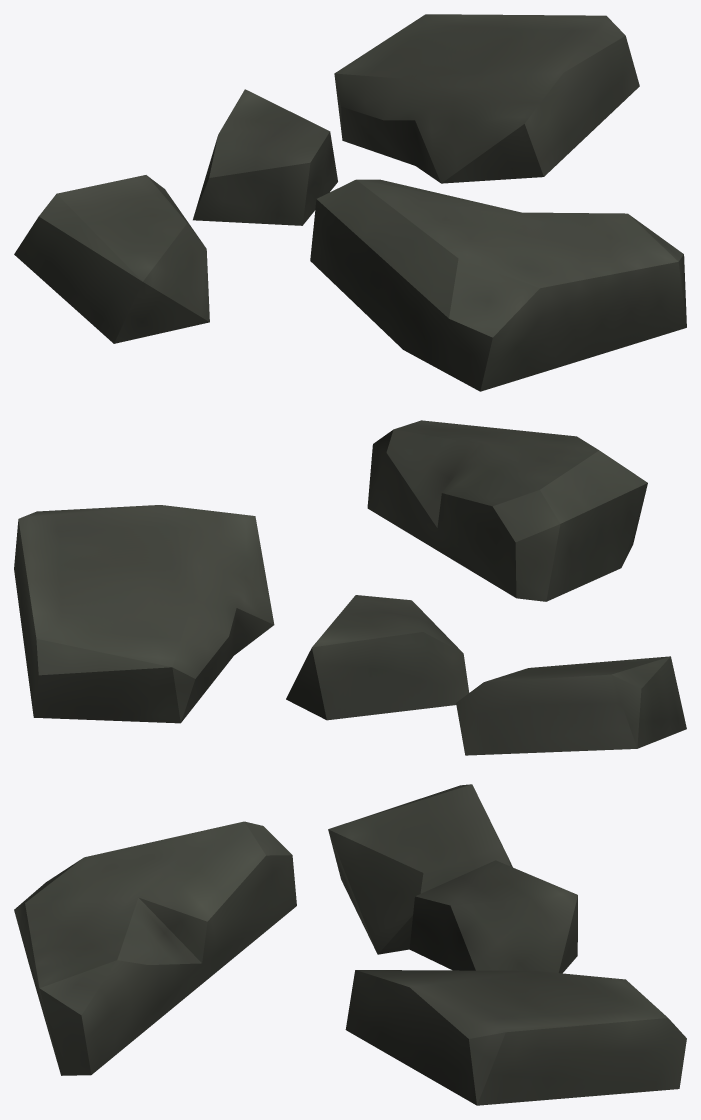
The model's file is Floor5.fbx.
3 renders of one model, top to bottom at view 1: azimuth 30°, elevation 25°; view 2: azimuth 150°, elevation 25°; view 3: azimuth 270°, elevation 25°, orthographic. The views are drawn at different scales.
Parts seen in each view (by area): view 1: Floor5; view 2: Floor5; view 3: Floor5.
Boxes of the visible parts, x1,y1,x2,y2 form: Floor5: (14, 14, 686, 391); Floor5: (14, 420, 686, 755); Floor5: (14, 784, 686, 1105).
Size of the model in its own units: 158 by 42.14 by 150.
1 material, 1 textured.
